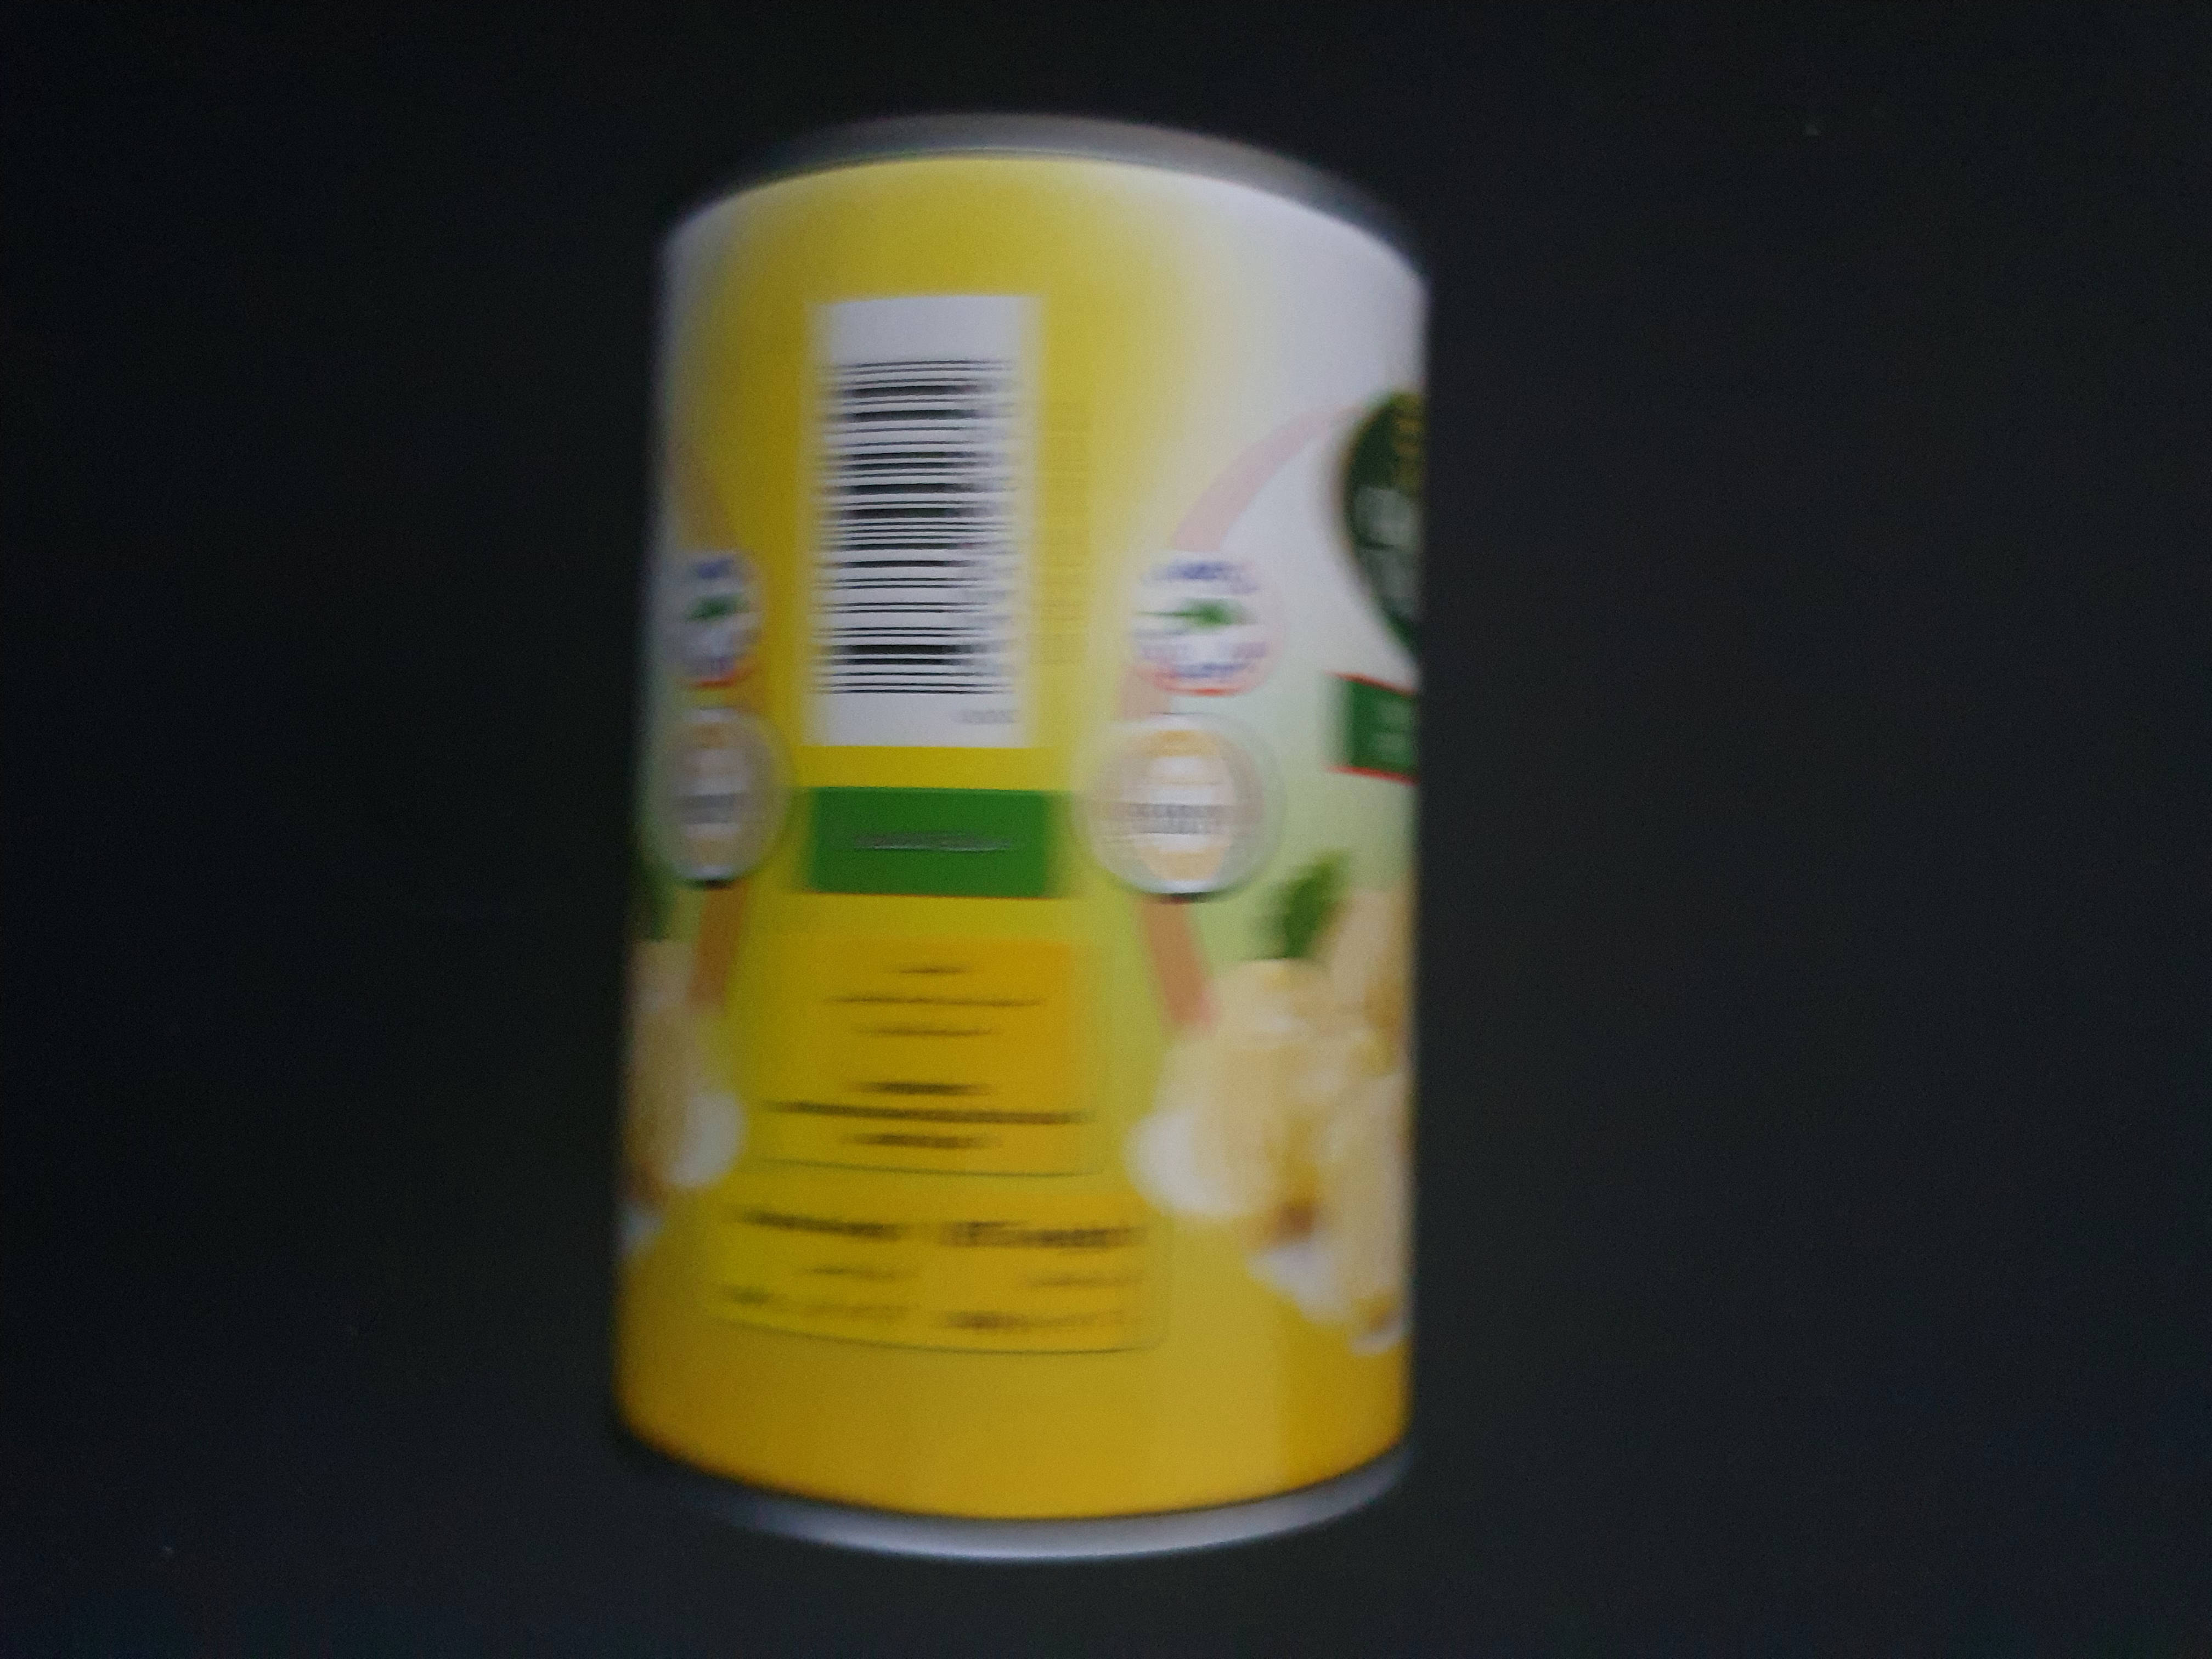metal: (559, 91, 1460, 1570)
